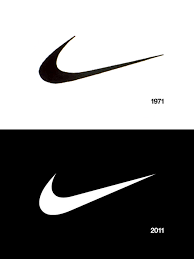nike: (39, 14, 173, 93), (26, 155, 170, 226)
